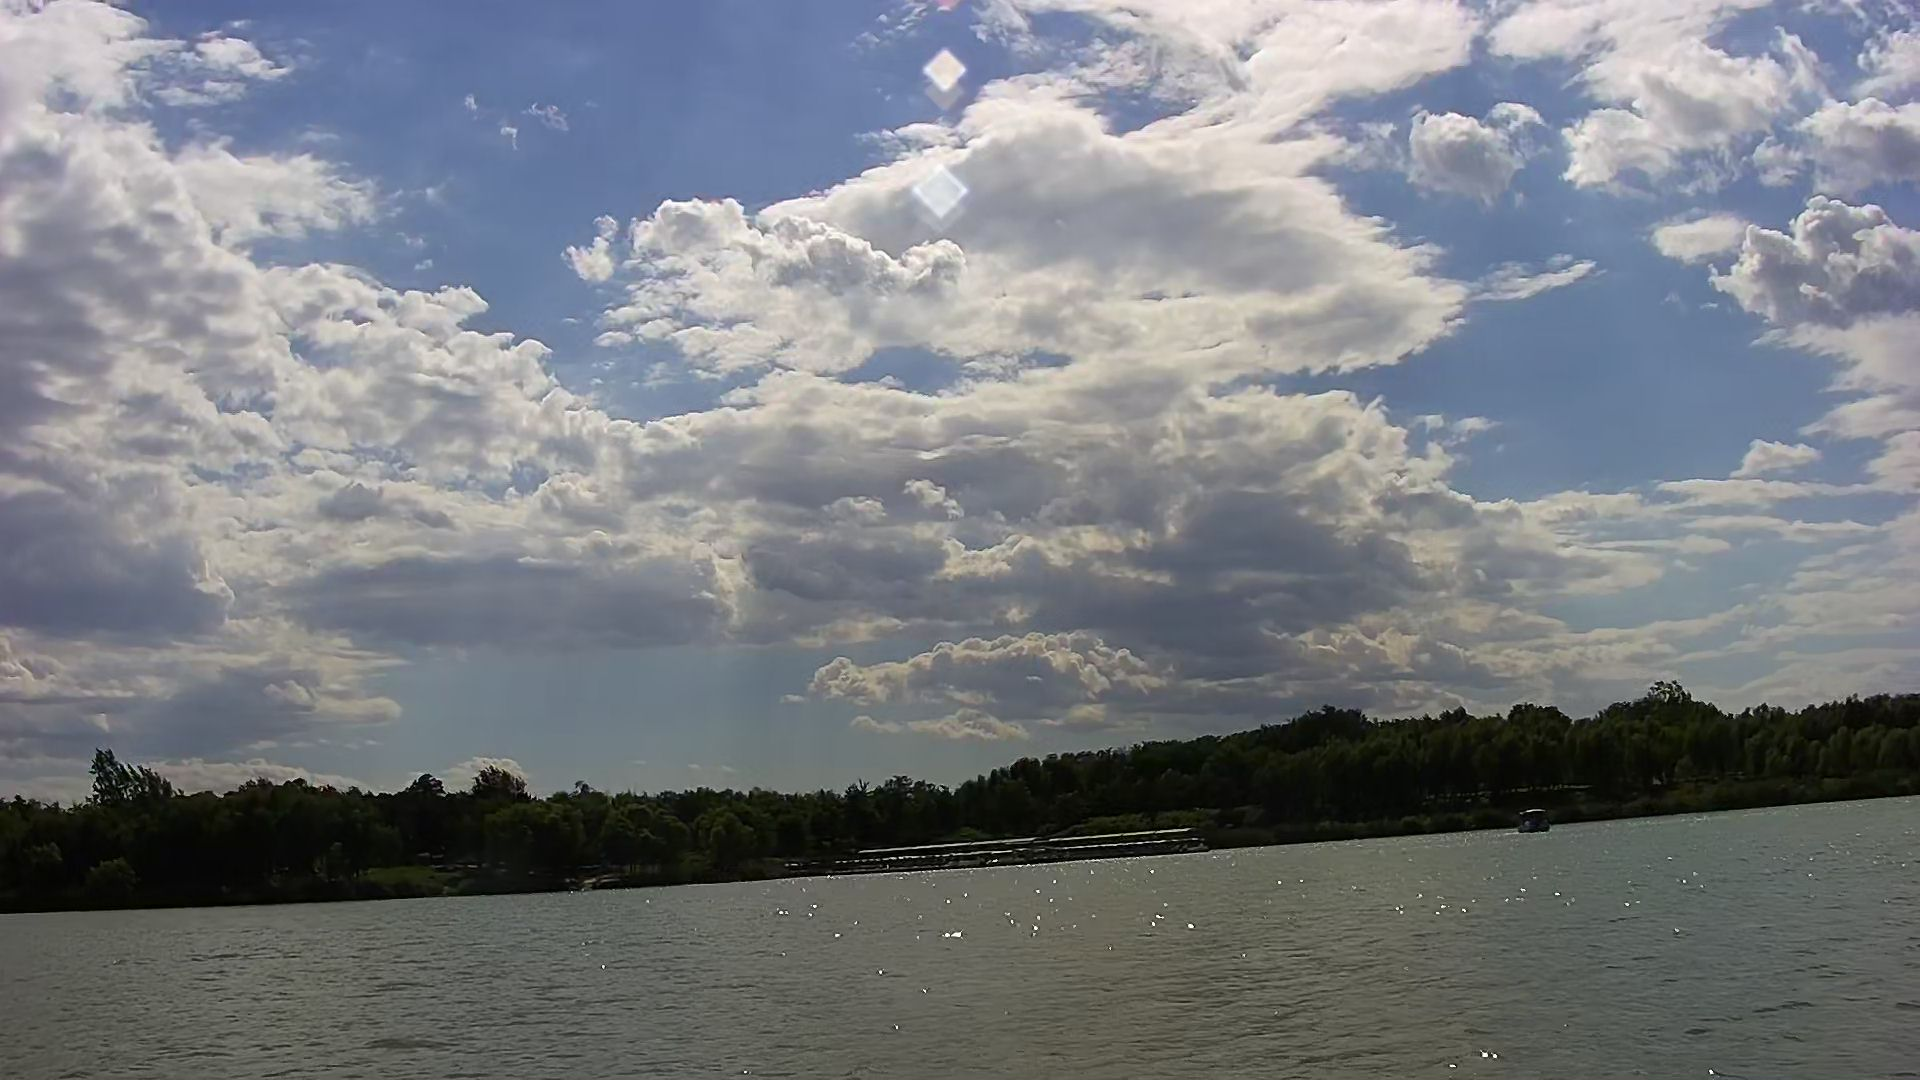boat: (1509, 795, 1559, 837)
harbor: (852, 820, 1211, 872)
